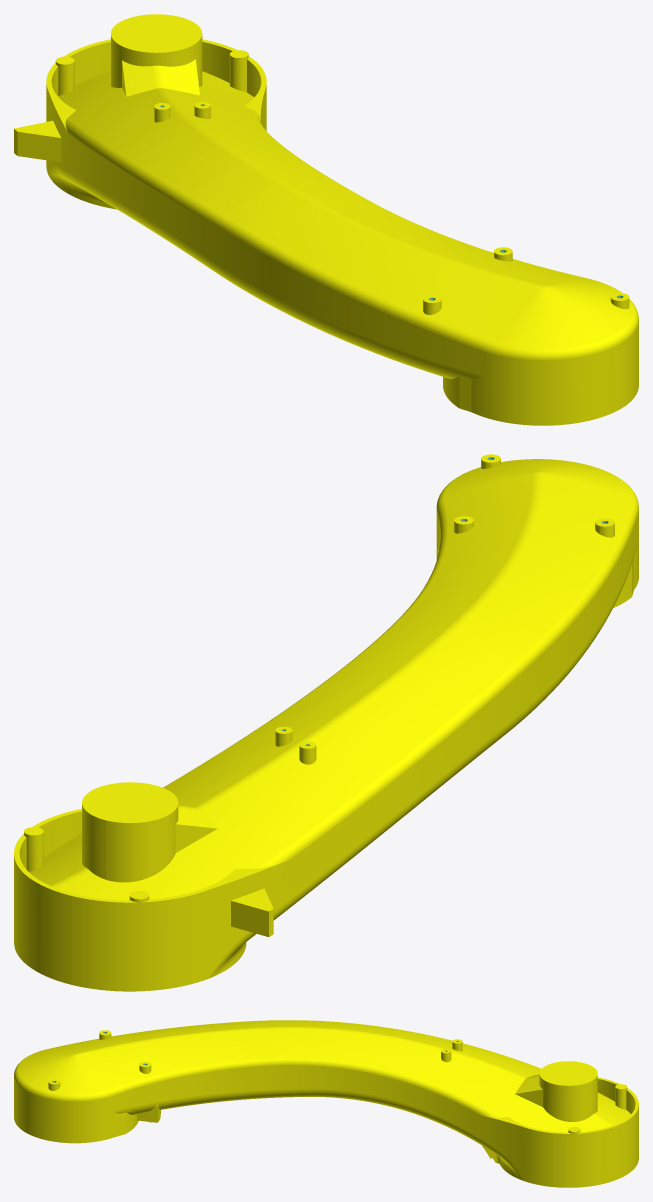
3 renders of one model, top to bottom at view 1: azimuth 30°, elevation 25°; view 2: azimuth 150°, elevation 25°; view 3: azimuth 270°, elevation 25°, orthographic. The views are drawn at different scales.
Visible parts, largest first — view 1: Mesh_0; view 2: Mesh_0; view 3: Mesh_0.
Part boxes in pixels (x1,y1,x2,y2): Mesh_0: [14, 14, 638, 425]; Mesh_0: [14, 454, 638, 991]; Mesh_0: [14, 1020, 638, 1187].
Size of the model in its own units: 0.4324 by 0.2661 by 1.46.
